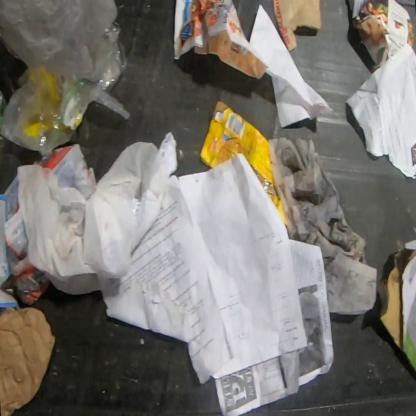cardboard: (199, 100, 275, 185), (0, 305, 57, 415), (0, 204, 52, 306), (376, 239, 415, 373), (351, 0, 415, 73), (46, 144, 98, 201), (272, 0, 322, 53), (268, 193, 288, 228)
soft_plastic: (0, 0, 132, 194), (250, 164, 279, 197)
